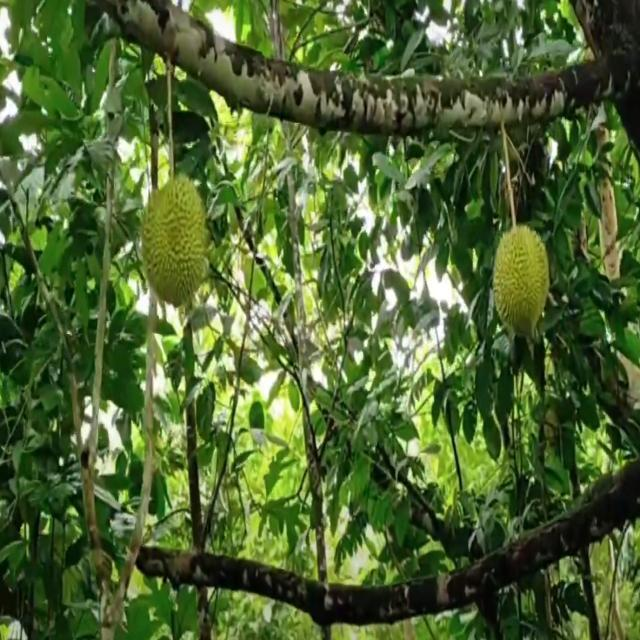immature: (137, 169, 209, 315), (492, 224, 552, 344)
